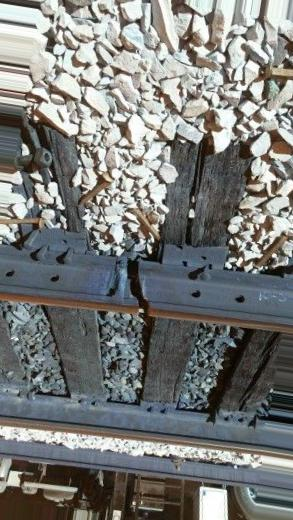tracks_fault: (78, 236, 179, 338)
